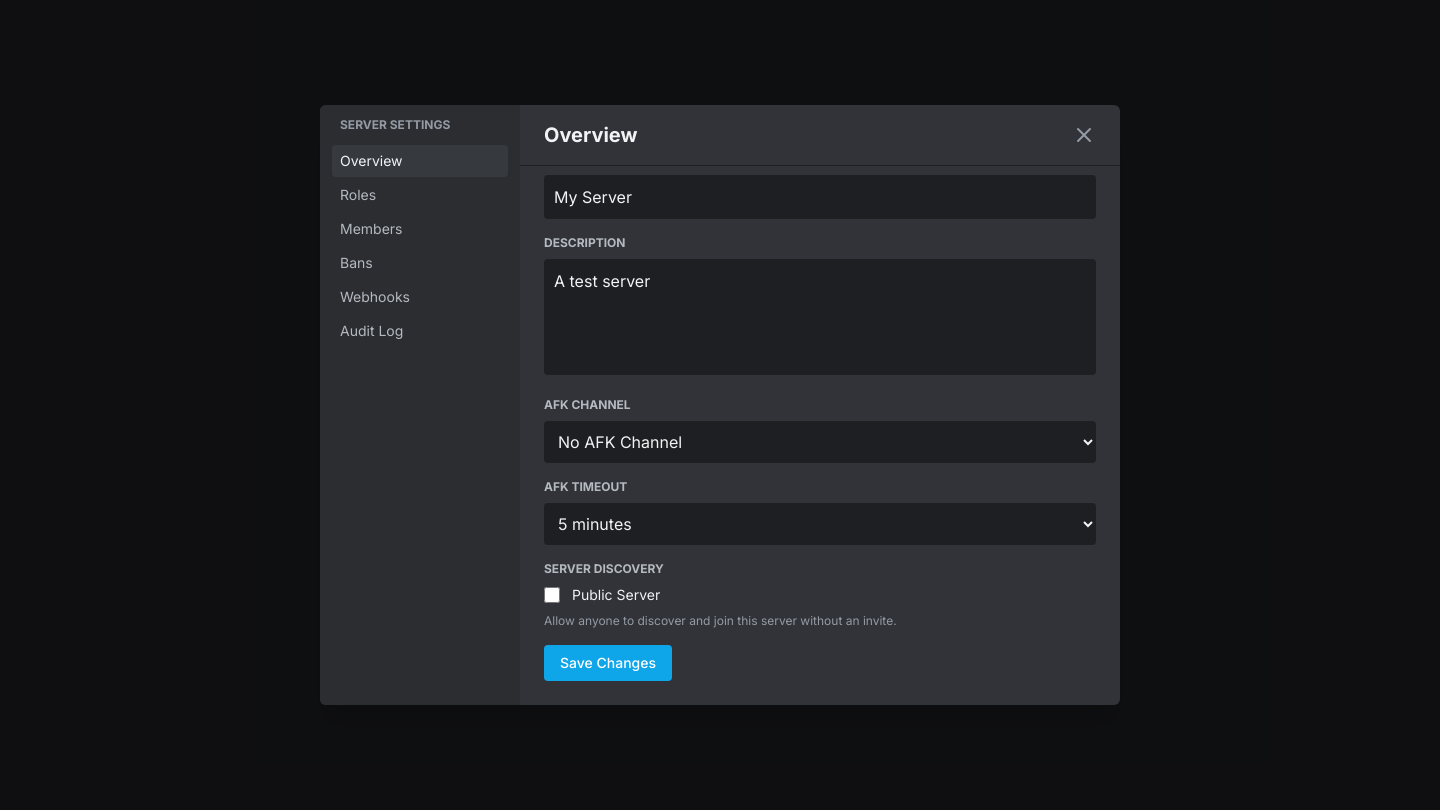
Test case: ServerSettingsModal › Overview tab › shows error on save failure
(page scrolled)
Click the button "Save Changes": (608,663) left=544, top=645, right=672, bottom=681
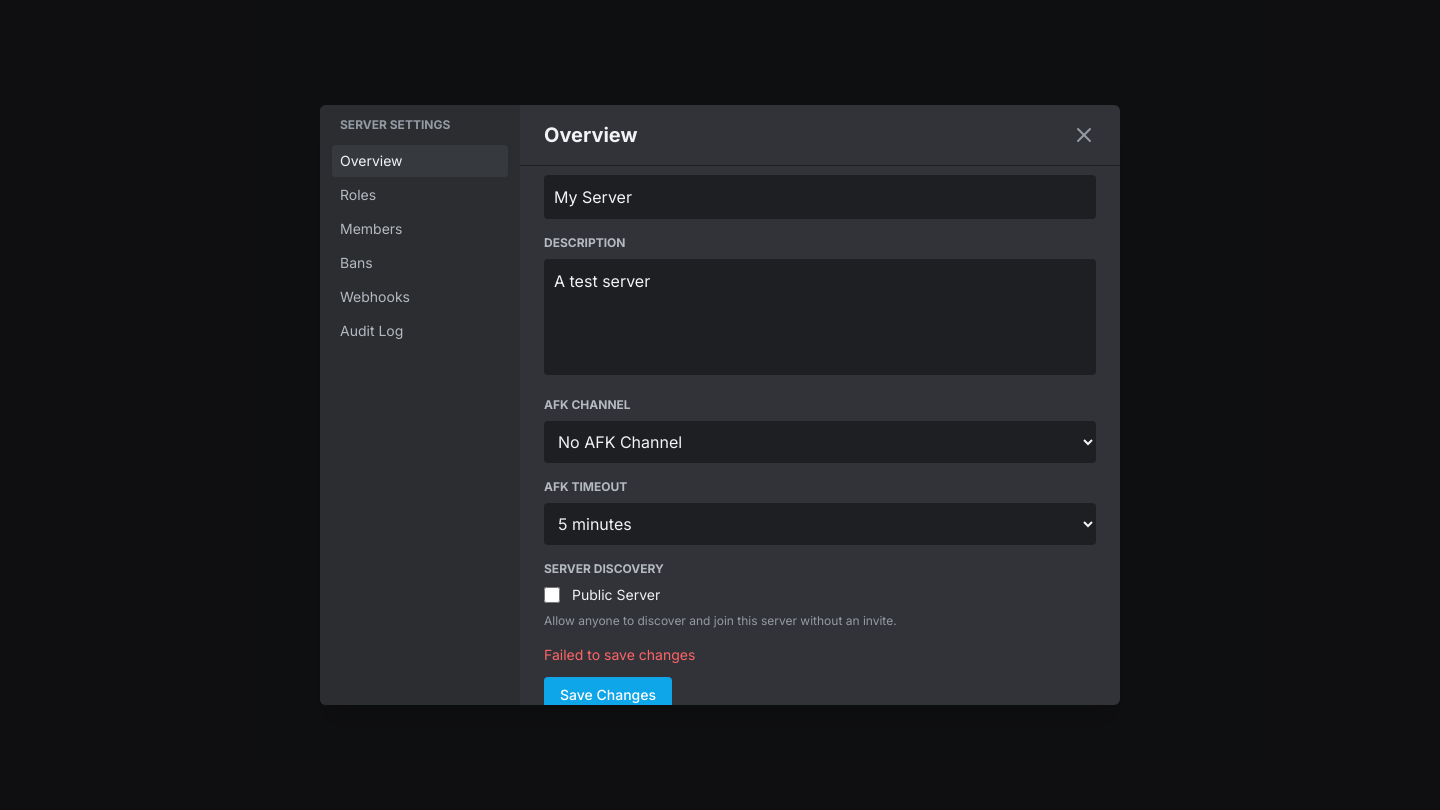
expect the text "Failed to save changes" is shown: met, box left=544, top=646, right=695, bottom=663
